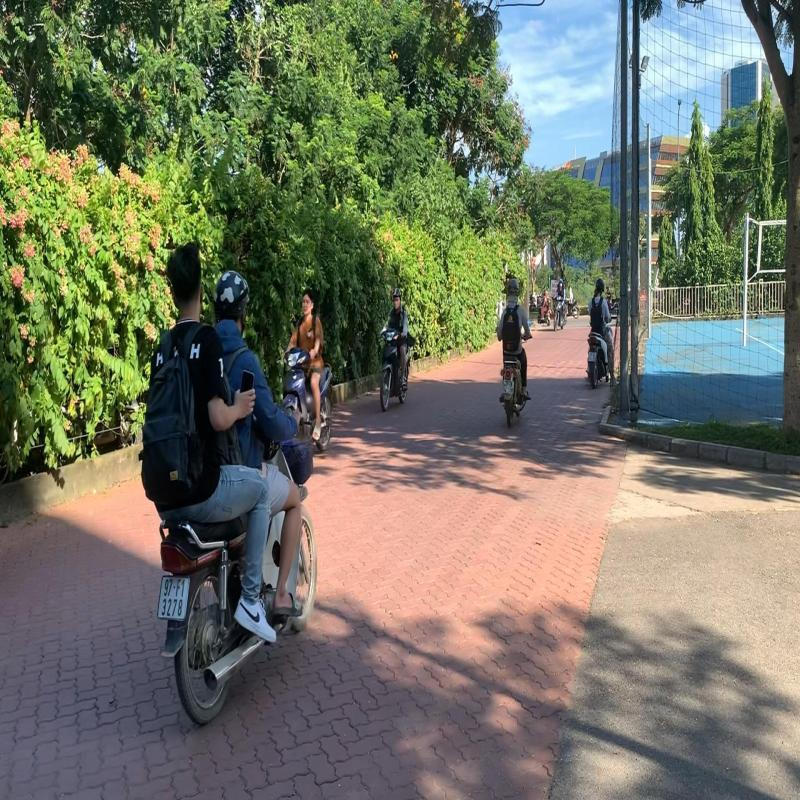nohelmet: (163, 237, 206, 320)
